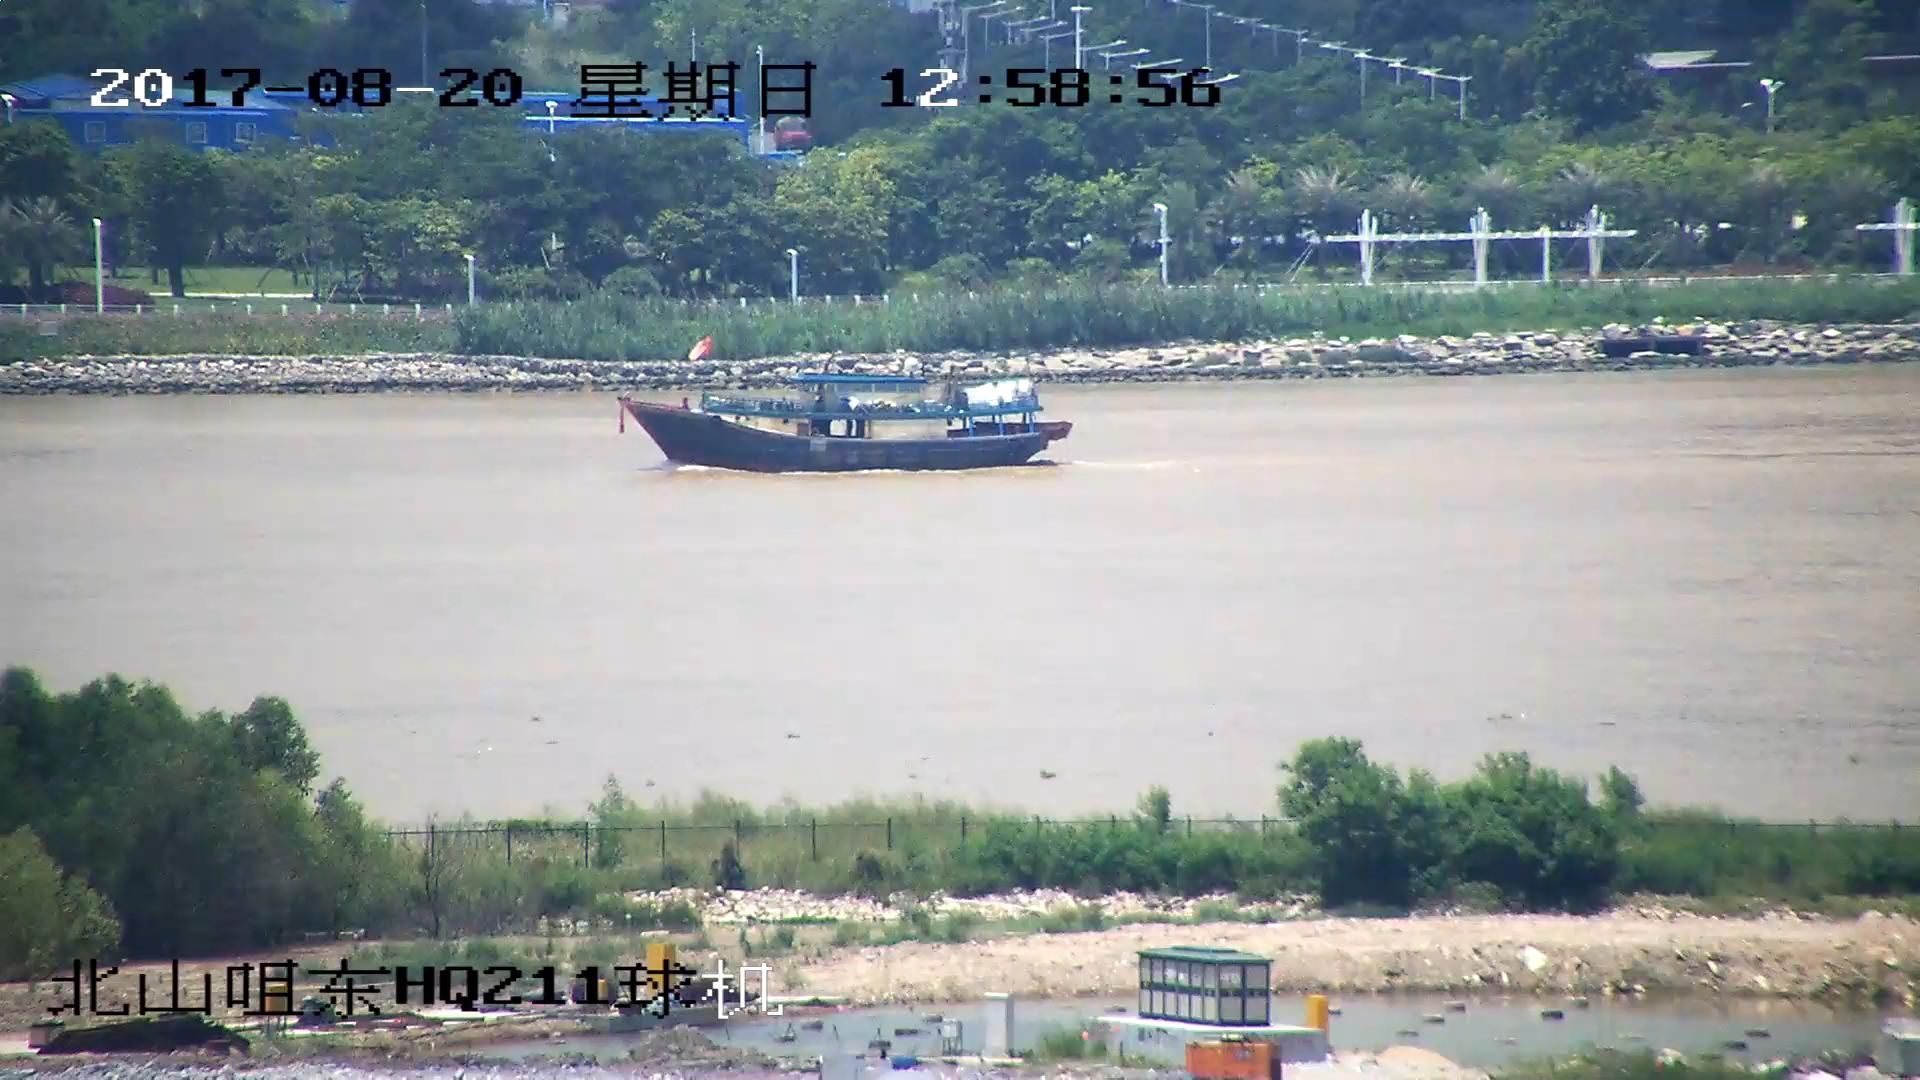fishing boat: (619, 361, 1075, 470)
